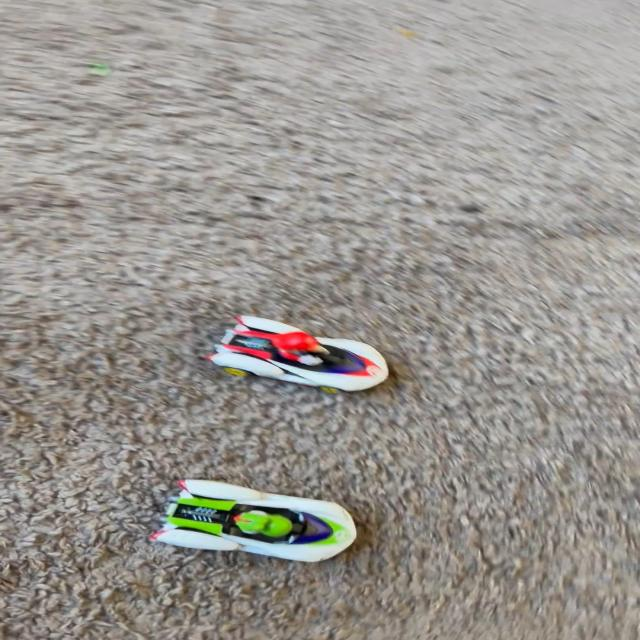mario: (200, 310, 402, 404)
yoshi: (143, 460, 373, 572)
